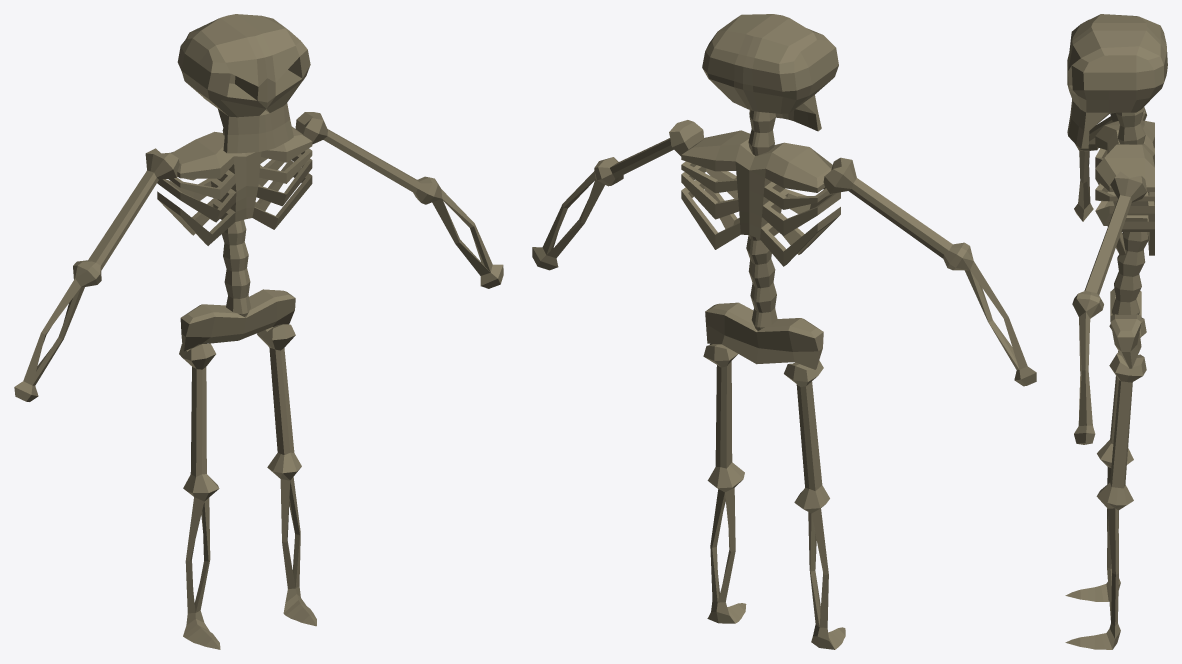
The model's file is skeleton.fbx.
The picture shows the model from 3 angles, left to right: view 1: azimuth 30°, elevation 25°; view 2: azimuth 150°, elevation 25°; view 3: azimuth 270°, elevation 25°; orthographic projection. The views are drawn at different scales.
Visible parts, largest first — view 1: Cube; view 2: Cube; view 3: Cube.
Part boxes in pixels (bbox=[...]): Cube: bbox=[14, 14, 503, 649]; Cube: bbox=[532, 14, 1036, 649]; Cube: bbox=[1065, 14, 1167, 649].
Size of the model in its own units: 1.55 by 1.8 by 0.2828.
